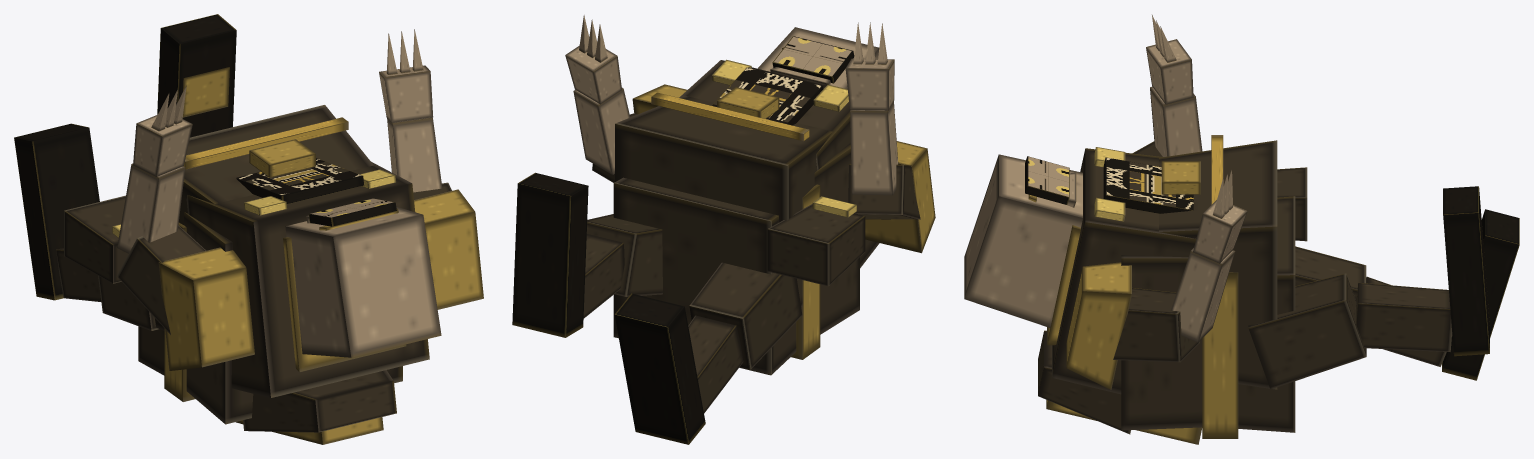
File: margor_move.obj
3 renders of one model, left to right at view 1: azimuth 30°, elevation 25°; view 2: azimuth 150°, elevation 25°; view 3: azimuth 270°, elevation 25°, orthographic. The views are drawn at different scales.
Parts seen in each view (by area): view 1: margor_move; view 2: margor_move; view 3: margor_move.
Boxes of the visible parts, <box> form: margor_move: <box>14,14,483,444</box>; margor_move: <box>512,15,935,444</box>; margor_move: <box>964,15,1519,444</box>.
Bounding box in the file's own units: 0.7001 × 0.7389 × 1.05.
1 material, 1 textured.
